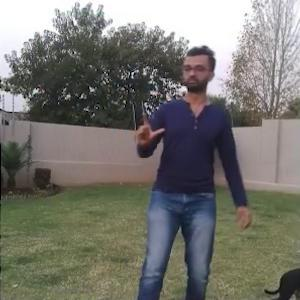land_hand: (132, 107, 168, 153)
